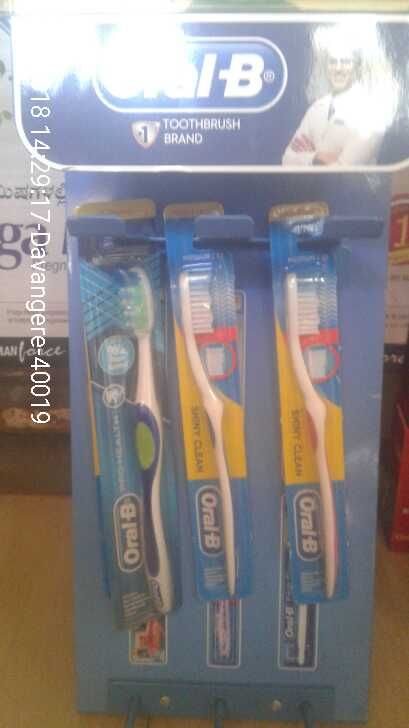oralb: (68, 232, 180, 634), (266, 198, 354, 605), (172, 213, 258, 606)
